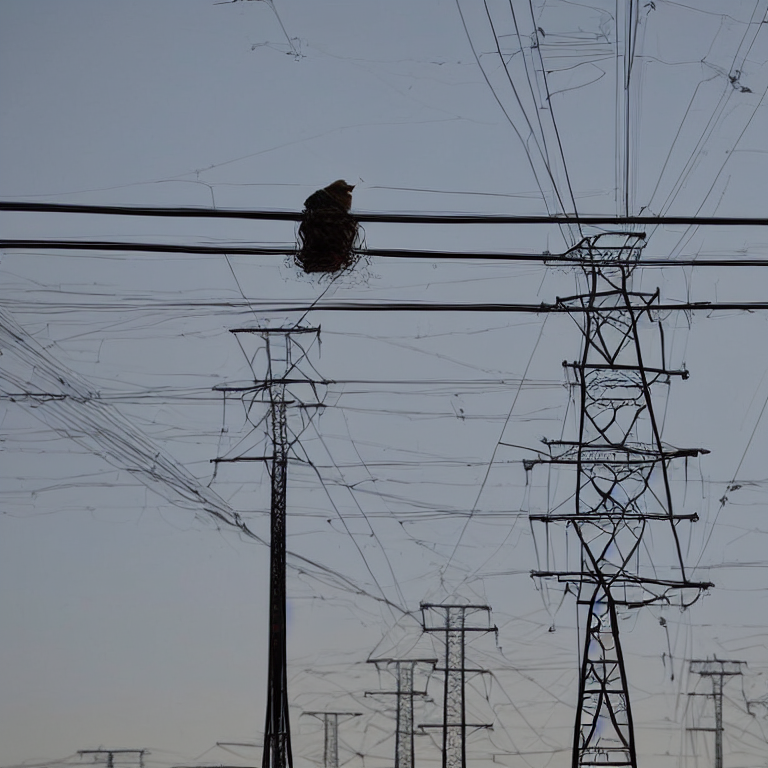nest: (294, 216, 357, 274)
